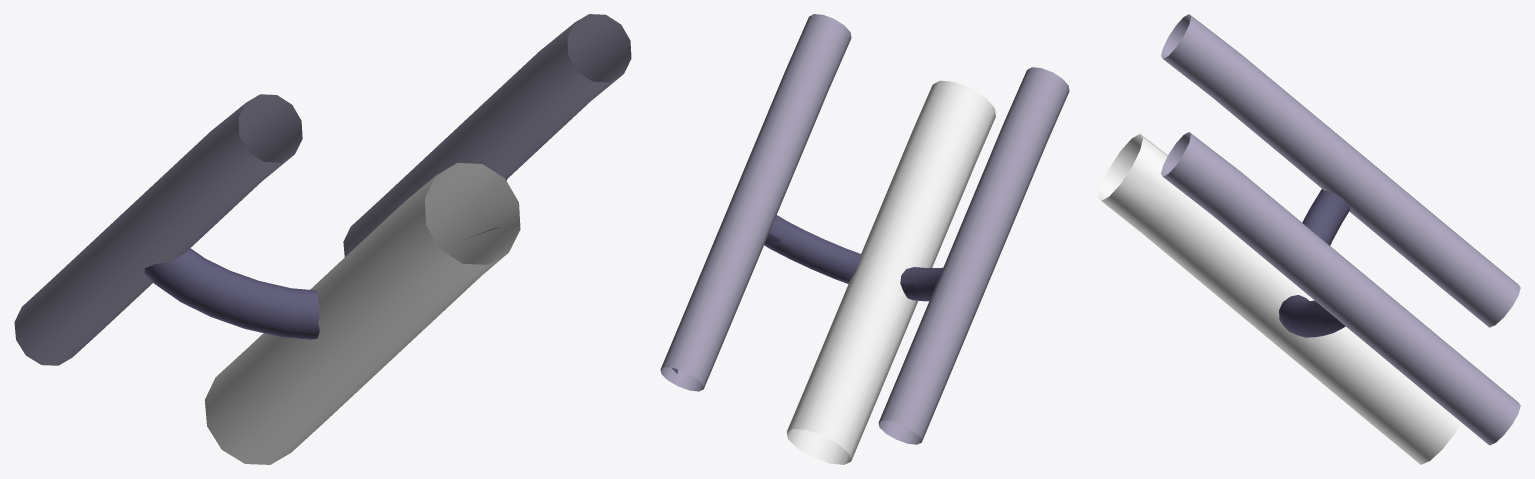
Rendered from rail-down-middle.glb.
3 views of the same model, side by side, from view 1: azimuth 30°, elevation 25°; view 2: azimuth 150°, elevation 25°; view 3: azimuth 270°, elevation 25° (orthographic). The views are drawn at different scales.
Parts seen in each view (by area): view 1: Plane.290_Material.001_0.001; view 2: Plane.290_Material.001_0.001; view 3: Plane.290_Material.001_0.001.
Boxes of the visible parts, bbox=[...] form: Plane.290_Material.001_0.001: bbox=[14, 14, 631, 464]; Plane.290_Material.001_0.001: bbox=[660, 14, 1069, 464]; Plane.290_Material.001_0.001: bbox=[1098, 14, 1520, 464].
Size of the model in its own units: 2.74 by 3.51 by 3.49.
1 material, 1 textured.
